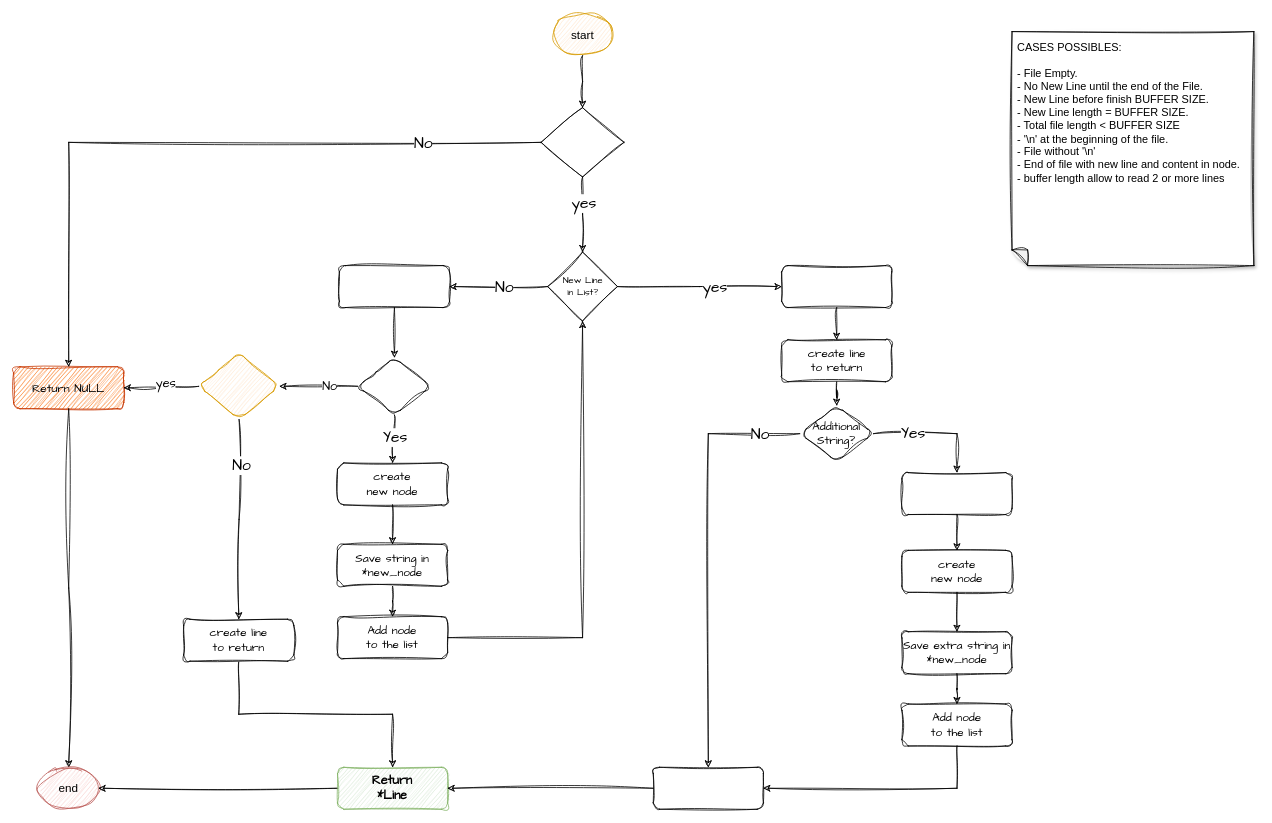
The diagram is 1272 pixels wide and 823 high, and some of its shapes have lost their labels. The centre of each missing label's shape, as x and y in pixels:
"Clean List" belongs at point (707, 788).
"File Read?" belongs at point (394, 386).
"List Empty ?" belongs at point (238, 385).
"preliminary reading checks O.K?" belongs at point (582, 142).
"Read n_bytes ( BUFFER_SIZE)" belongs at point (394, 286).
"Save New Line in *line" belongs at point (836, 286).
"save the extra string" belongs at point (956, 493).
